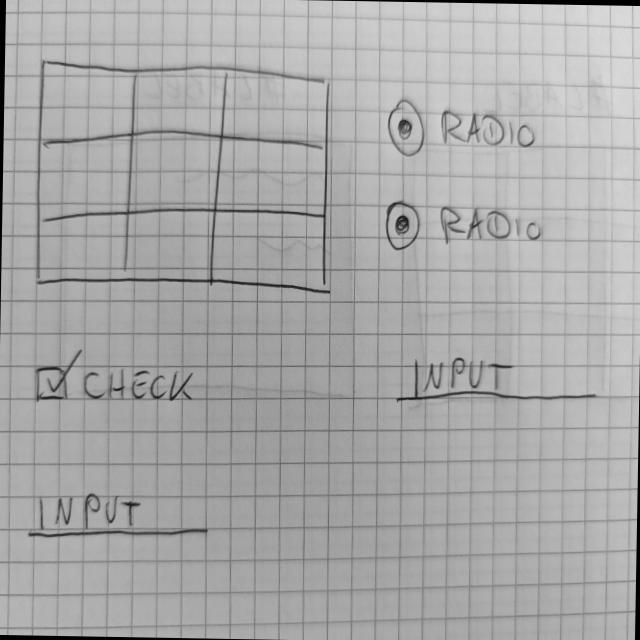checkbox: (33, 346, 203, 411)
input: (393, 350, 601, 411), (27, 489, 214, 545)
radio: (385, 95, 540, 164), (383, 196, 549, 260)
table: (32, 54, 336, 298)
